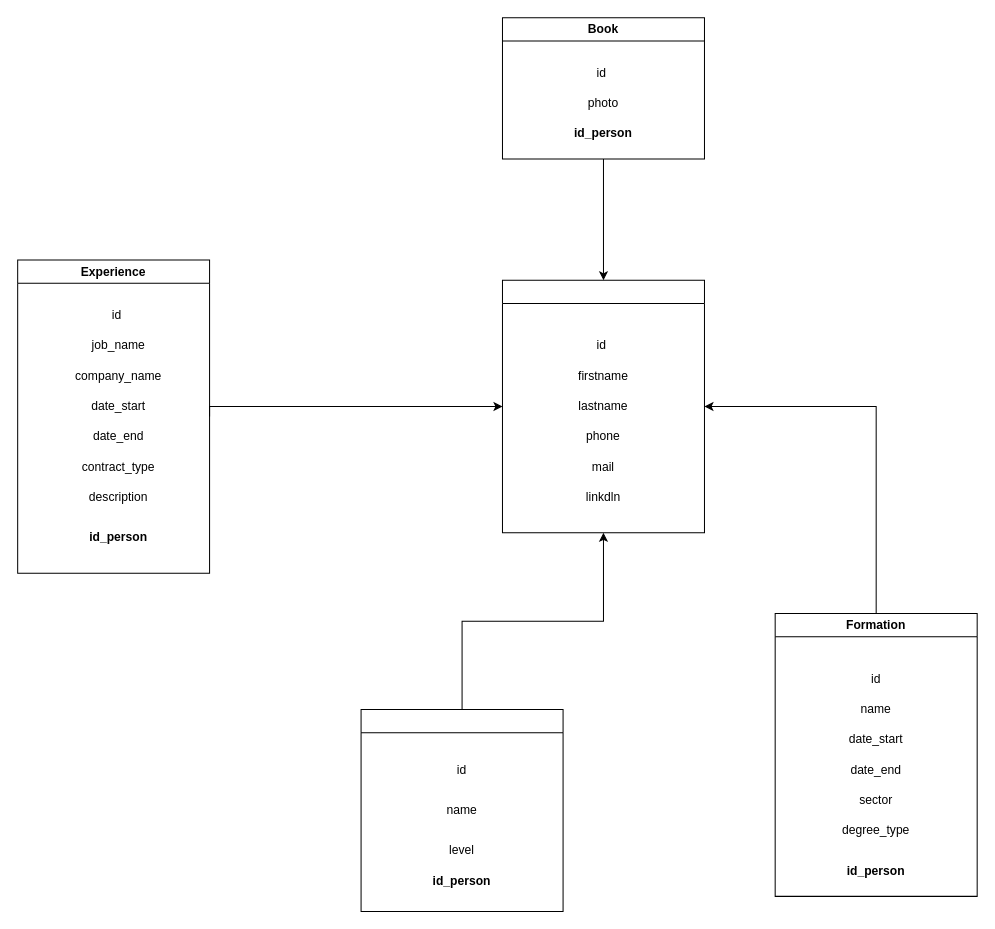
Image size: 995x929. Some labels were removed from this diagram. The box of each missing label's shape, as (x1, y1, x2, y2) in pixels:
Person: (501, 279, 704, 533)
Skills: (360, 709, 563, 912)
